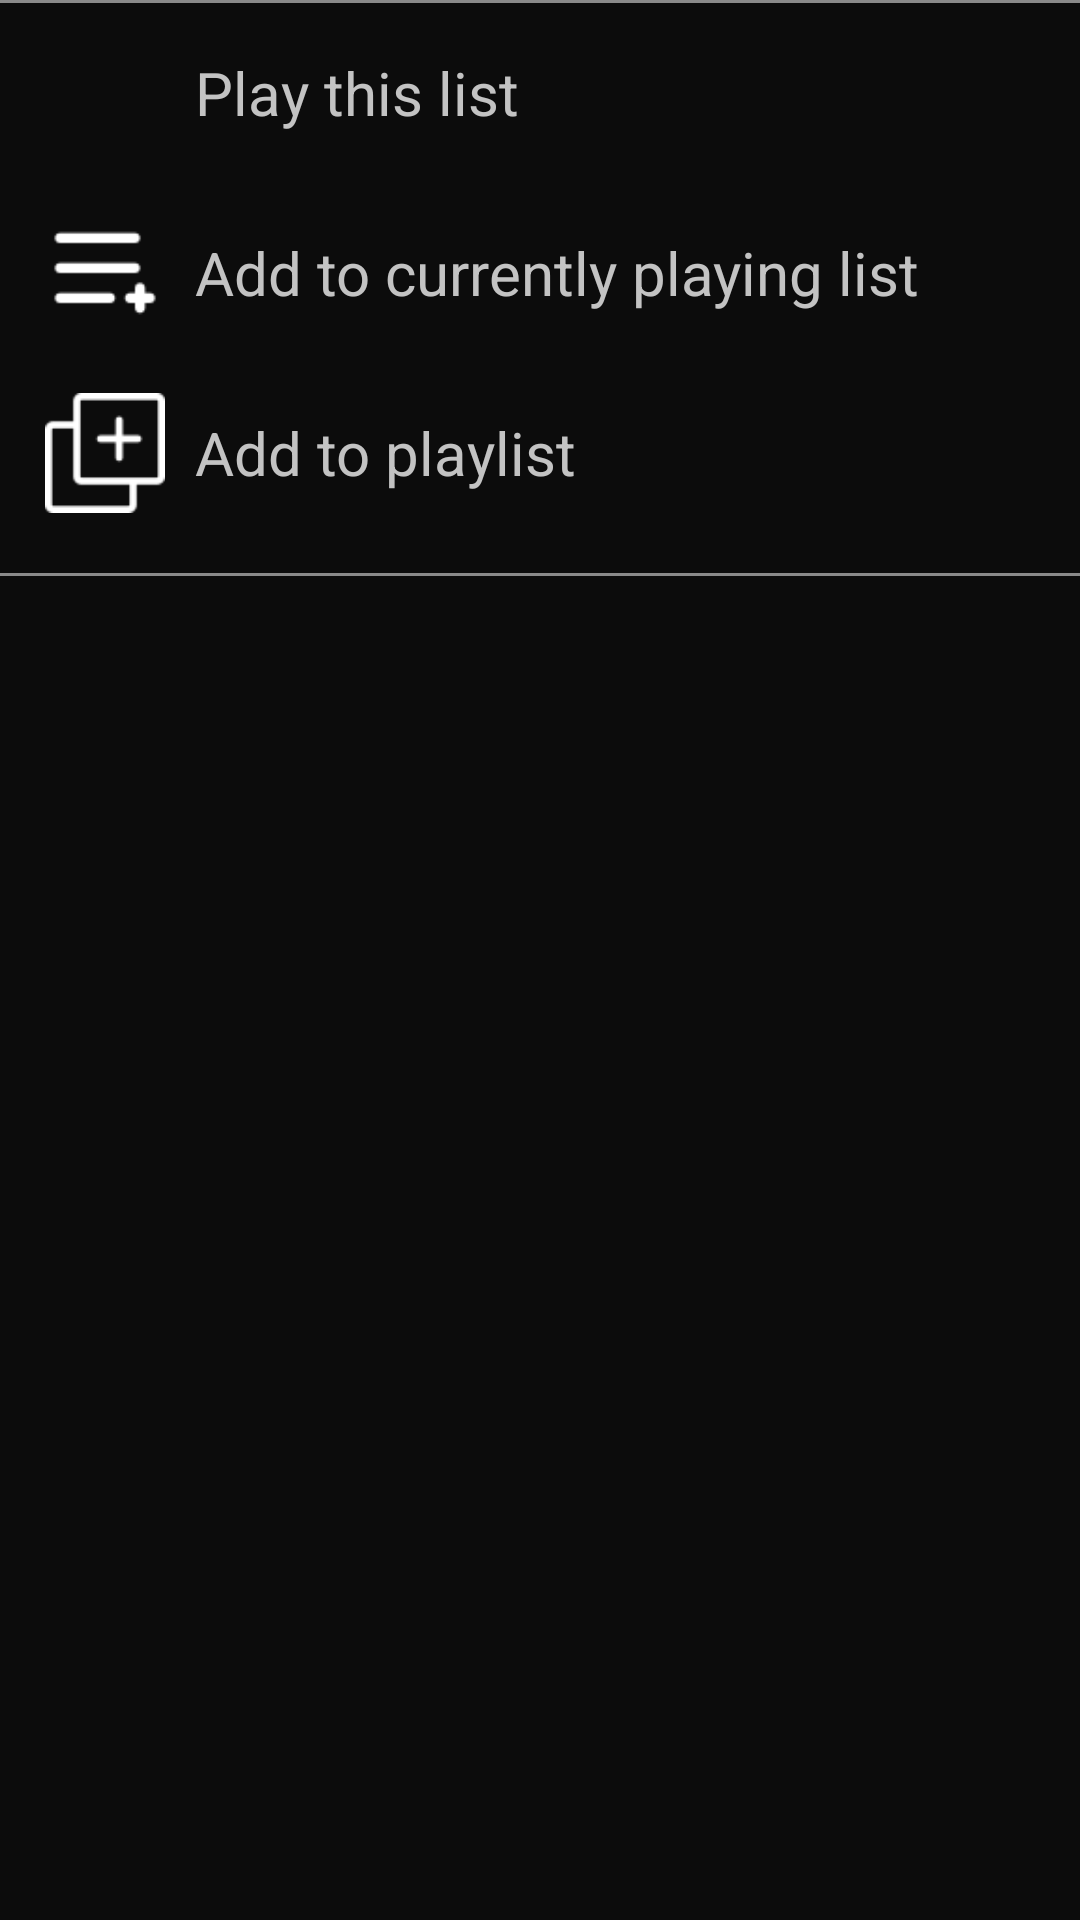

Icons on this 1080px x 1920px Android screen, each with its box as bbox=(x1, y1, x2, y2):
add to nextup: bbox=(54, 231, 156, 314)
